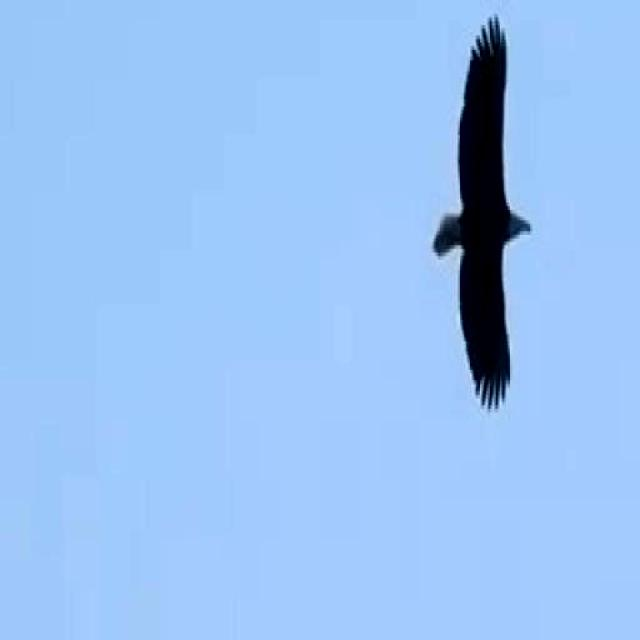airplane: (420, 0, 545, 431)
